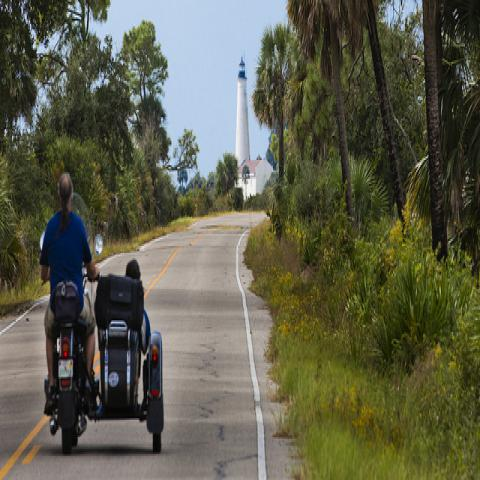motorcycle: (47, 294, 86, 454)
